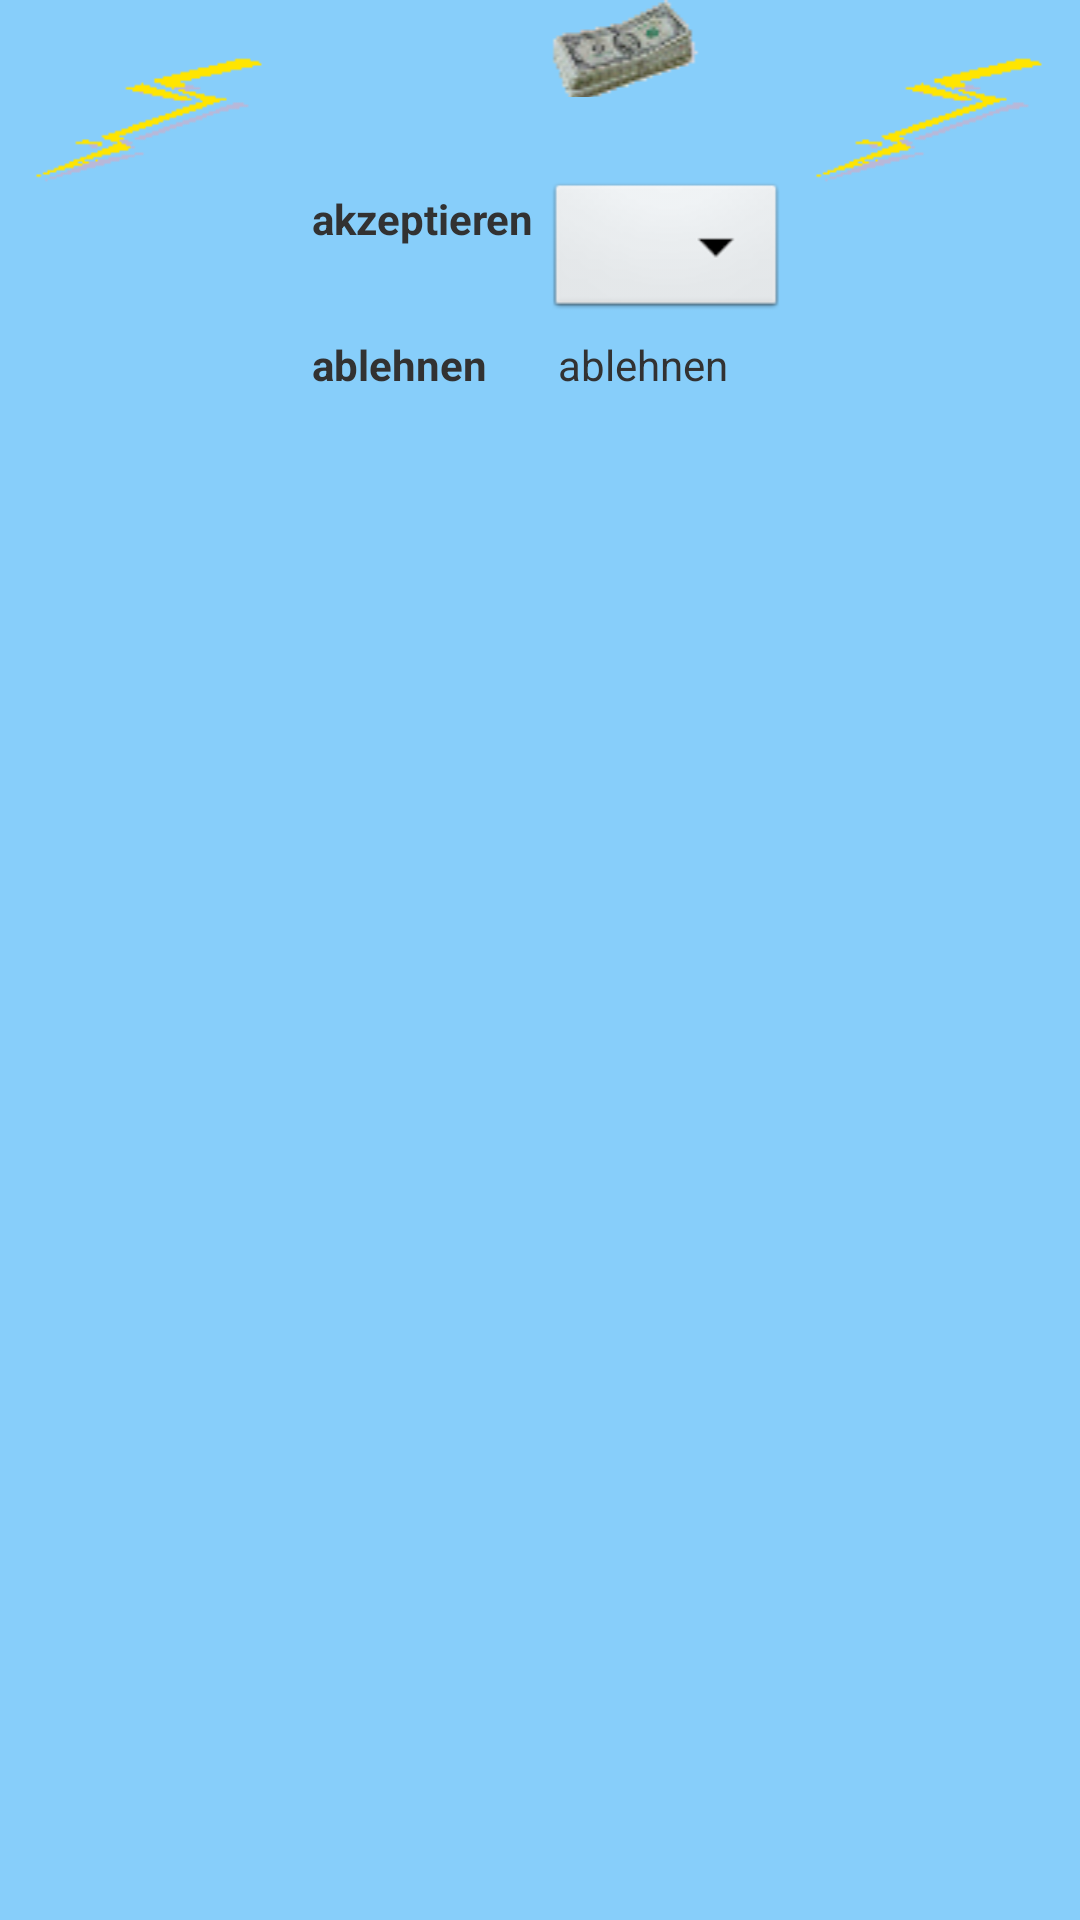

Icons on this 1080*1920 Android screen, each with the point to tap as (x=x, y=y):
lightening: (x=149, y=119), (x=929, y=119)
money: (x=625, y=48)
